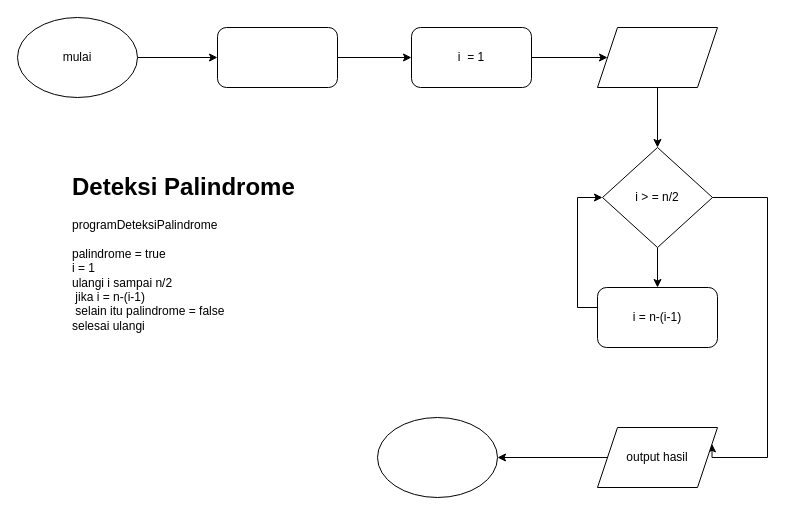
This 793x515 diagram has some shape labels left out. Here are the shapes that lost their labels. From the top down, the box of each, then its label:
(216, 26, 338, 88): pal = true
(596, 26, 718, 88): input i
(376, 416, 498, 498): selesai
